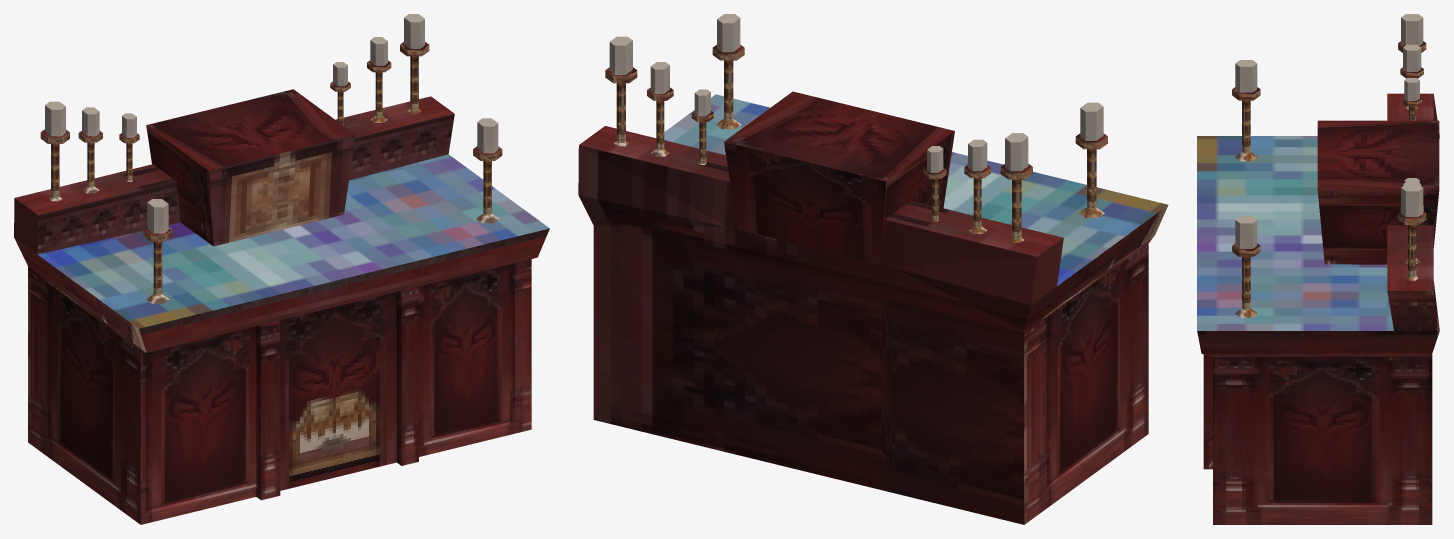
Rendered from CharlieChurchAltar.obj.
3 renders of one model, left to right at view 1: azimuth 30°, elevation 25°; view 2: azimuth 150°, elevation 25°; view 3: azimuth 270°, elevation 25°, orthographic. The views are drawn at different scales.
Visible parts, largest first — view 1: Cube, Cube.001, Cube.002, Cube.010, Cube.003; view 2: Cube, Cube.002, Cube.001, Cube.010, Cube.003; view 3: Cube, Cube.001, Cube.002, Cube.010, Cube.003.
Part boxes in pixels (x1=…): Cube: x1=14, y1=89, x2=549, y2=524; Cube.001: x1=40, y1=101, x2=139, y2=201; Cube.002: x1=330, y1=14, x2=429, y2=125; Cube.010: x1=143, y1=199, x2=172, y2=303; Cube.003: x1=473, y1=118, x2=502, y2=223; Cube: x1=578, y1=91, x2=1168, y2=524; Cube.002: x1=605, y1=36, x2=713, y2=164; Cube.001: x1=924, y1=133, x2=1032, y2=242; Cube.010: x1=1075, y1=102, x2=1107, y2=217; Cube.003: x1=712, y1=14, x2=744, y2=129; Cube: x1=1197, y1=93, x2=1439, y2=524; Cube.001: x1=1398, y1=14, x2=1426, y2=120; Cube.002: x1=1398, y1=178, x2=1426, y2=280; Cube.010: x1=1232, y1=60, x2=1260, y2=161; Cube.003: x1=1232, y1=216, x2=1260, y2=317.
Size of the model in its own units: 2.13 by 1.66 by 1.11.
1 material, 1 textured.
